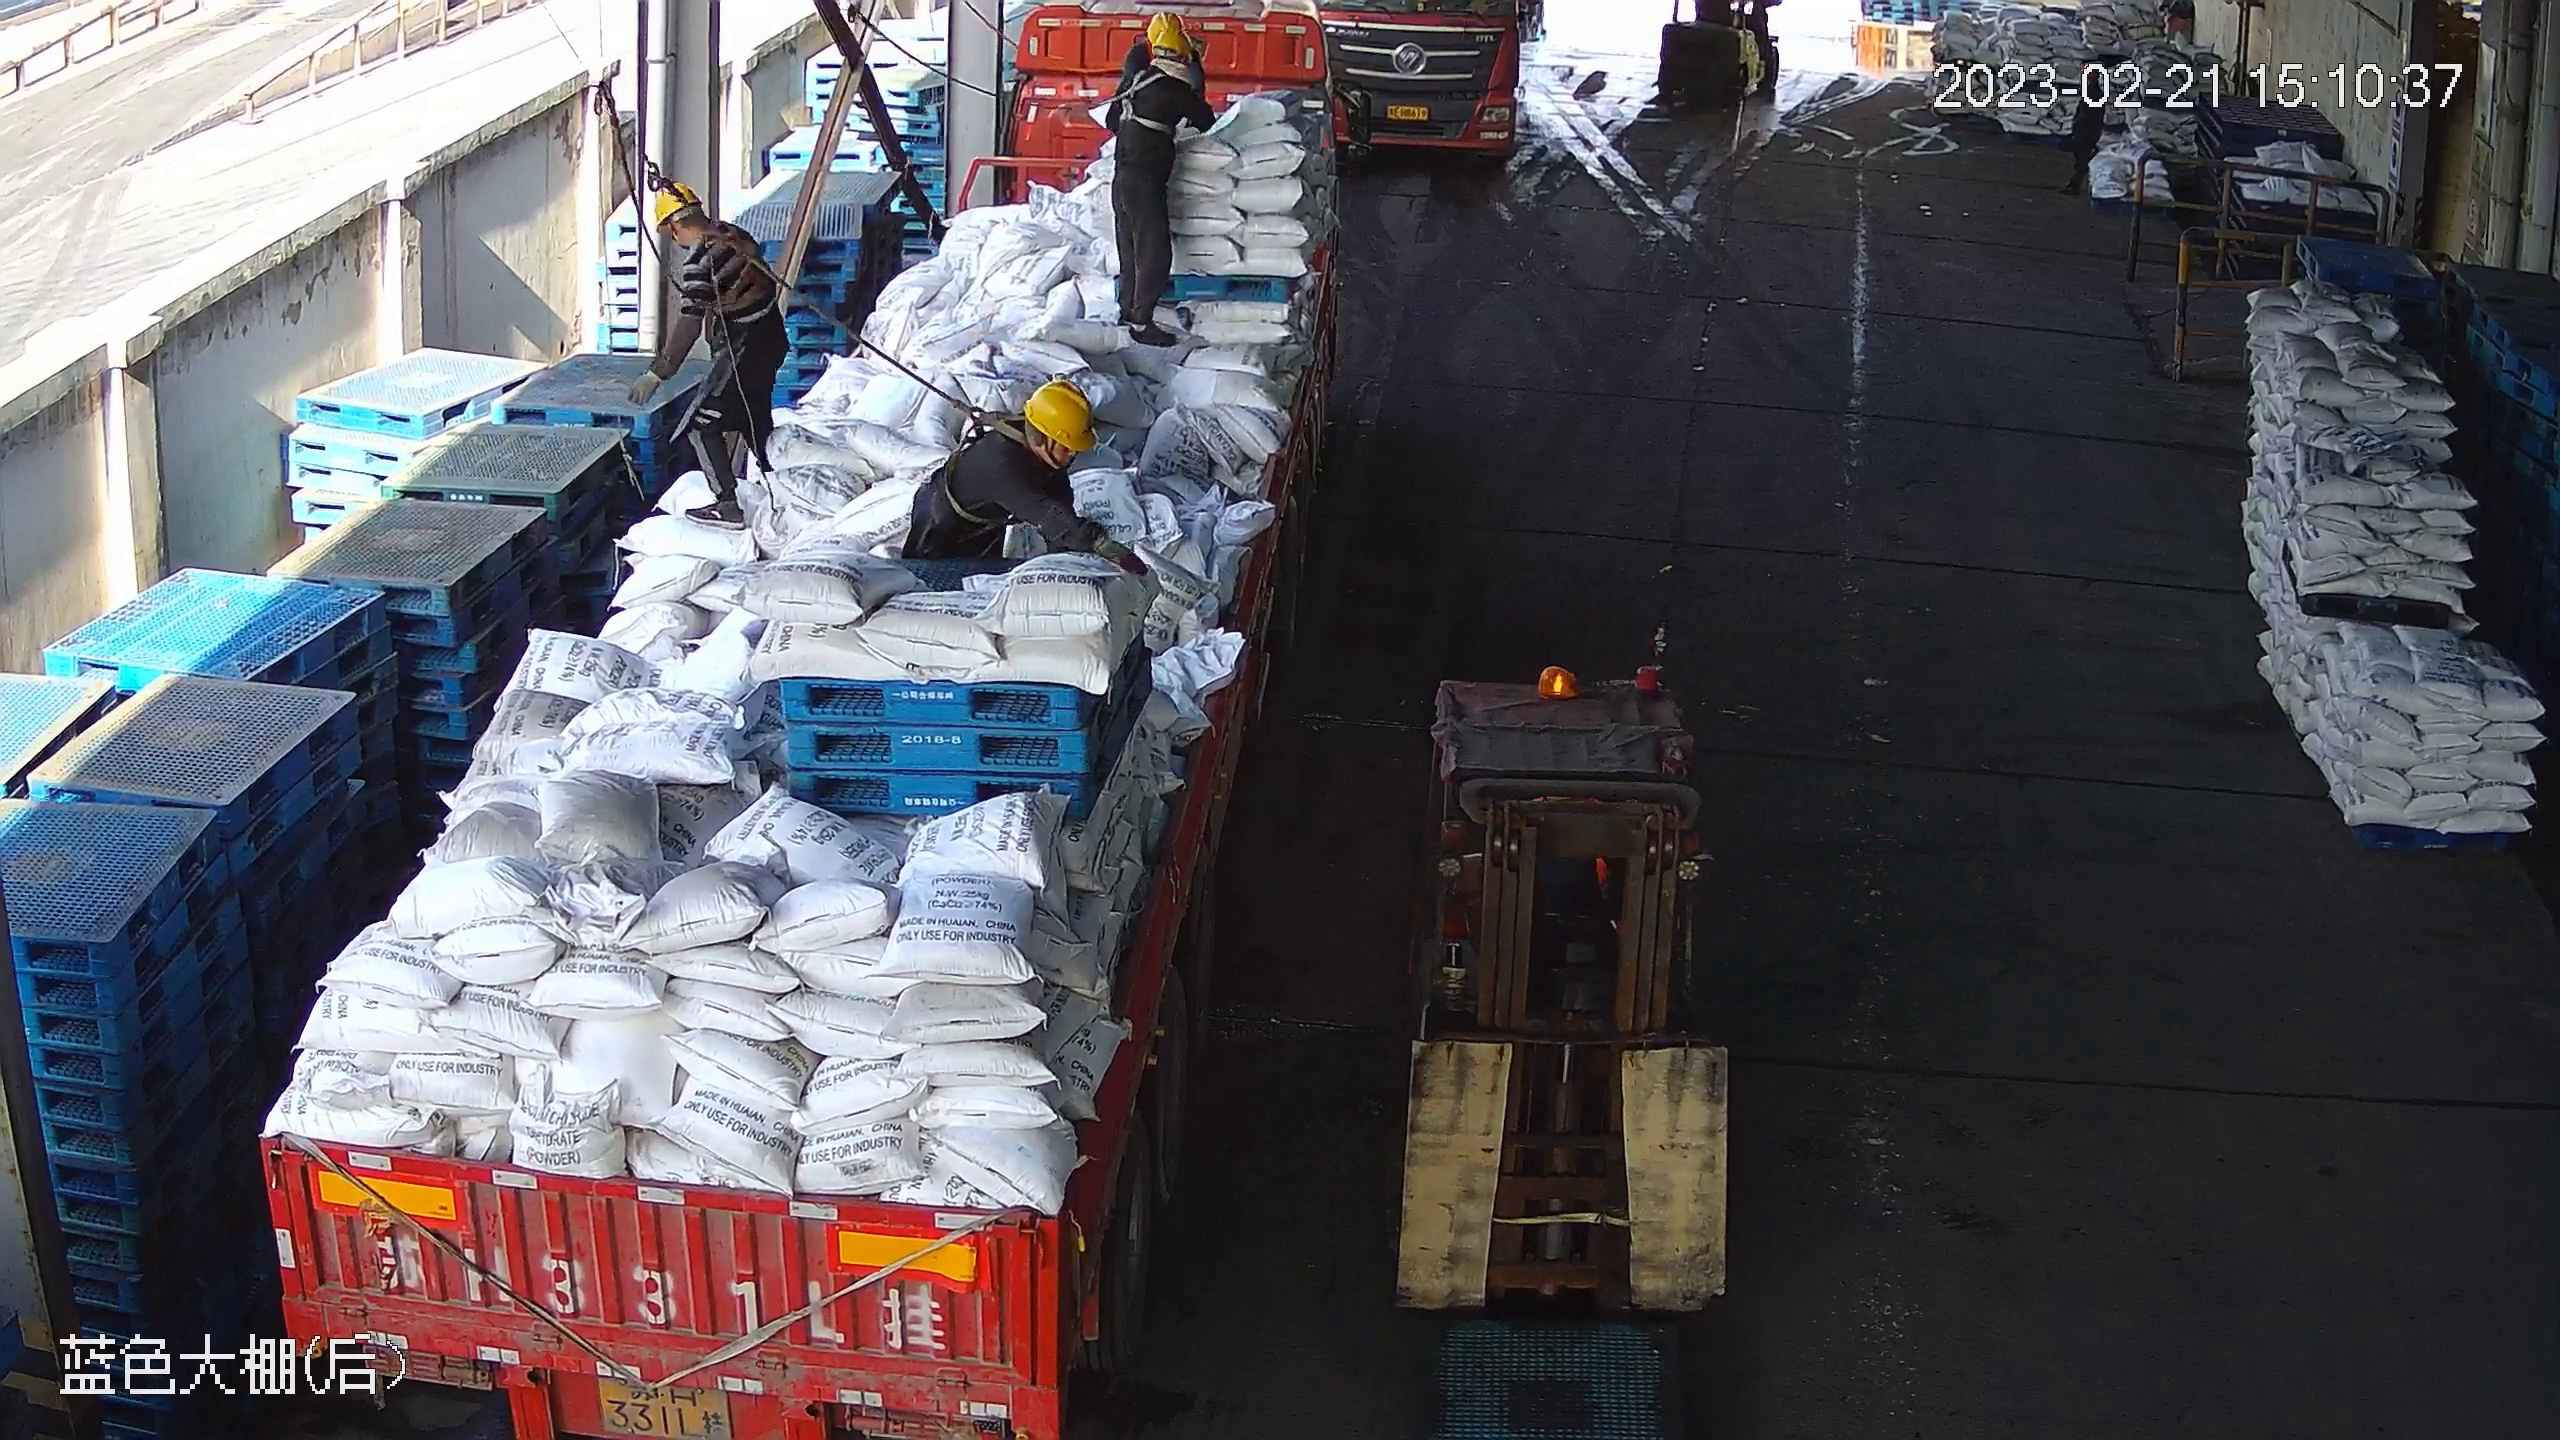belt: (943, 396, 1028, 523), (700, 224, 784, 312), (1124, 70, 1173, 140)
head: (905, 383, 1093, 525), (644, 183, 754, 310), (1118, 33, 1205, 125)
helmet: (1020, 383, 1098, 450), (654, 189, 705, 233), (1149, 8, 1186, 42), (1152, 32, 1191, 59)
people: (632, 184, 790, 532), (1101, 30, 1213, 344), (2066, 66, 2108, 201)
truck: (240, 5, 1374, 1440), (1309, 1, 1544, 167)
